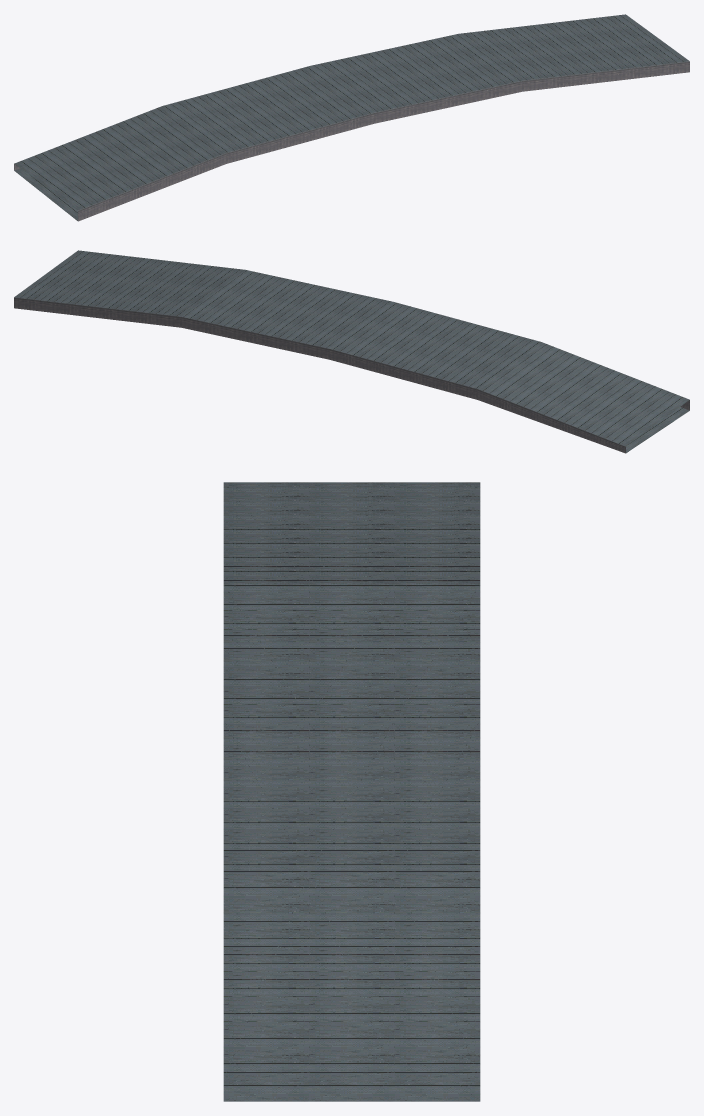
File: pirtebrdg01_lvs.obj
The picture shows the model from 3 angles, top to bottom: view 1: azimuth 30°, elevation 25°; view 2: azimuth 150°, elevation 25°; view 3: azimuth 270°, elevation 25°; orthographic projection. The views are drawn at different scales.
Visible parts, largest first — view 1: pirtebrdg01_lvS; view 2: pirtebrdg01_lvS; view 3: pirtebrdg01_lvS.
Boxes of the visible parts, x1=… form: pirtebrdg01_lvS: x1=14, y1=14, x2=689, y2=221; pirtebrdg01_lvS: x1=14, y1=250, x2=689, y2=453; pirtebrdg01_lvS: x1=223, y1=482, x2=480, y2=1101.
Size of the model in its own units: 82.63 by 4.72 by 15.
Materials: 2 (2 with a texture image).
